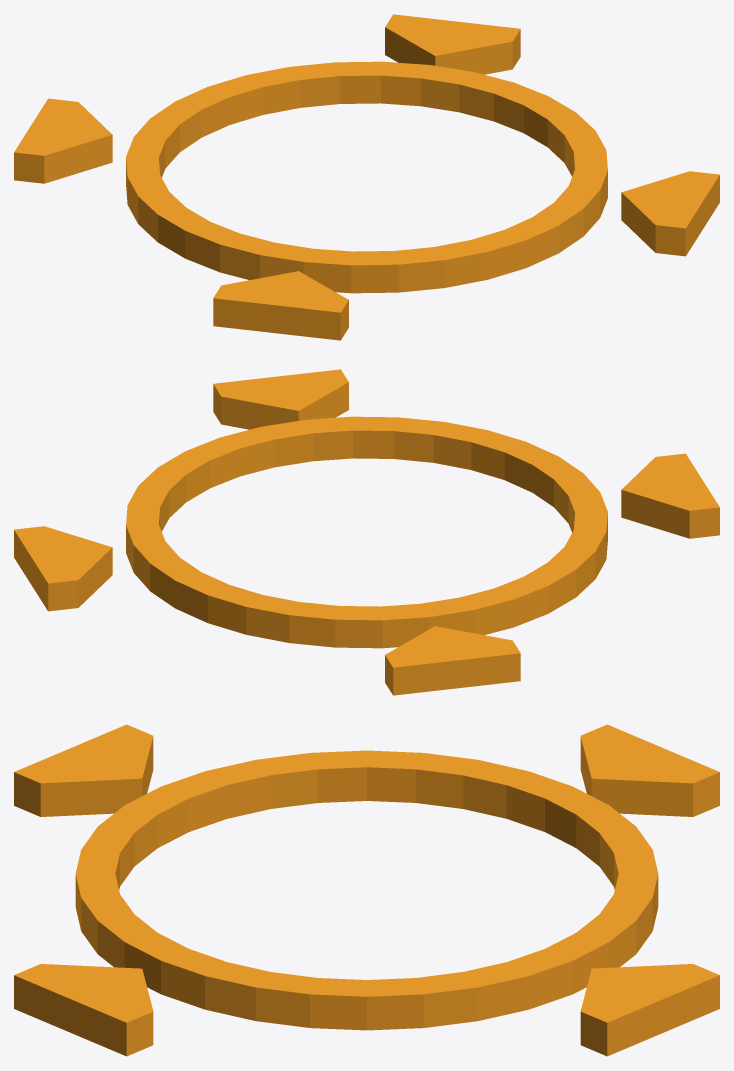
File: SM_Icon_SelectionRing_05.fbx
3 views of the same model, one above another, from view 1: azimuth 30°, elevation 25°; view 2: azimuth 150°, elevation 25°; view 3: azimuth 270°, elevation 25° (orthographic). The views are drawn at different scales.
Visible parts, largest first — view 1: SM_Icon_SelectionRing_05; view 2: SM_Icon_SelectionRing_05; view 3: SM_Icon_SelectionRing_05.
Part boxes in pixels (<box>): SM_Icon_SelectionRing_05: <box>14,14,719,340</box>; SM_Icon_SelectionRing_05: <box>14,369,719,695</box>; SM_Icon_SelectionRing_05: <box>14,724,719,1056</box>.
Bounding box in the file's own units: 69.78 × 3.67 × 69.78.
